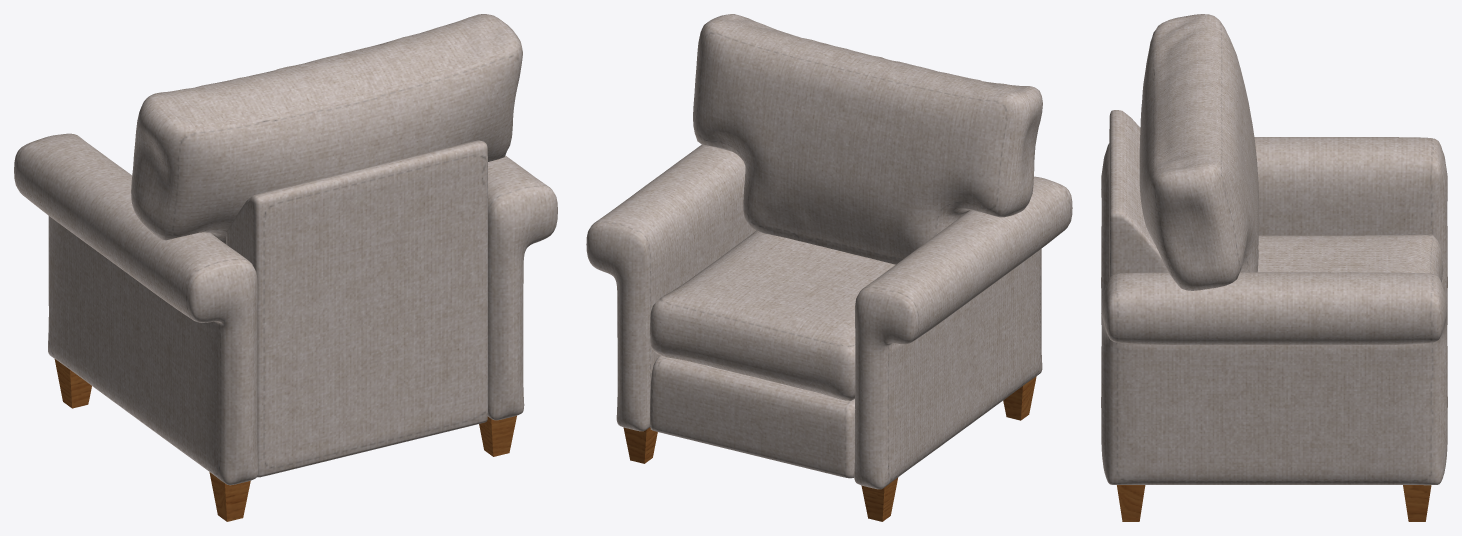
Rendered from Chair15.fbx.
3 renders of one model, left to right at view 1: azimuth 30°, elevation 25°; view 2: azimuth 150°, elevation 25°; view 3: azimuth 270°, elevation 25°, orthographic. The views are drawn at different scales.
Parts seen in each view (by area): view 1: Chair15; view 2: Chair15; view 3: Chair15.
Part boxes in pixels (x1,y1,x2,y2): Chair15: (14,14,557,521); Chair15: (586,14,1072,521); Chair15: (1101,14,1447,521).
Size of the model in its own units: 91.39 by 93.81 by 80.11.
